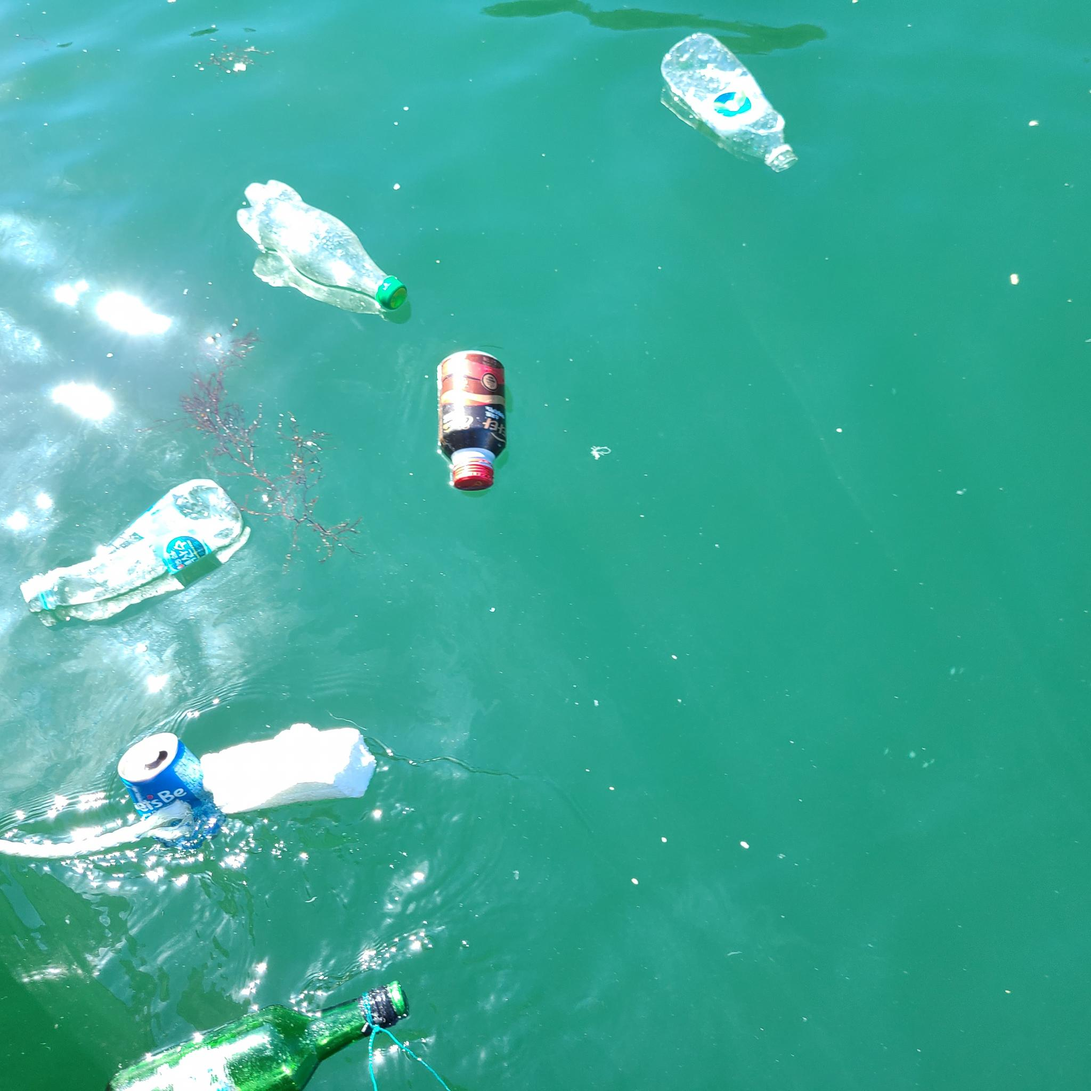sampah_terapung: (109, 981, 411, 1091), (20, 478, 244, 614), (237, 180, 407, 311), (662, 32, 799, 174), (201, 724, 378, 814), (1, 799, 194, 852), (437, 350, 508, 492), (119, 734, 200, 821)
